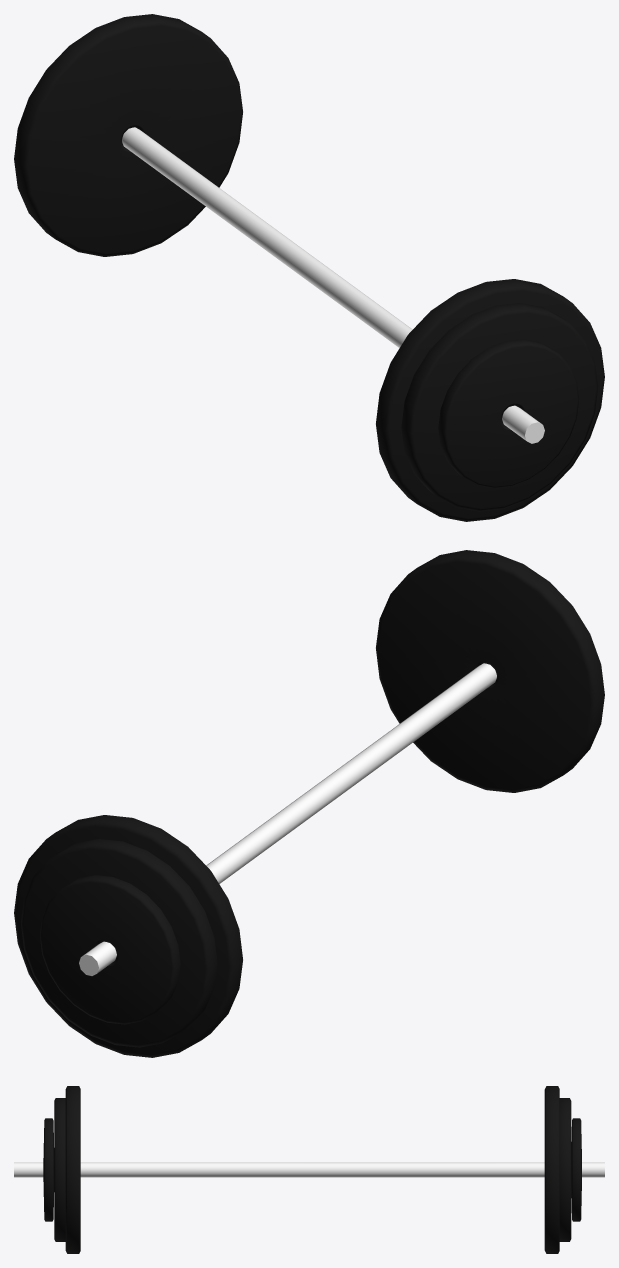
File: aws_Dumbbell_01_visual.DAE
3 renders of one model, top to bottom at view 1: azimuth 30°, elevation 25°; view 2: azimuth 150°, elevation 25°; view 3: azimuth 270°, elevation 25°, orthographic. The views are drawn at different scales.
Parts seen in each view (by area): view 1: aws_Dumbbell_01_visual; view 2: aws_Dumbbell_01_visual; view 3: aws_Dumbbell_01_visual.
Part boxes in pixels (x1,y1,x2,y2): aws_Dumbbell_01_visual: (14,14,604,521); aws_Dumbbell_01_visual: (14,550,604,1057); aws_Dumbbell_01_visual: (14,1086,604,1253).
Size of the model in its own units: 39.21 by 138 by 39.21.
Materials: 1 (1 with a texture image).
